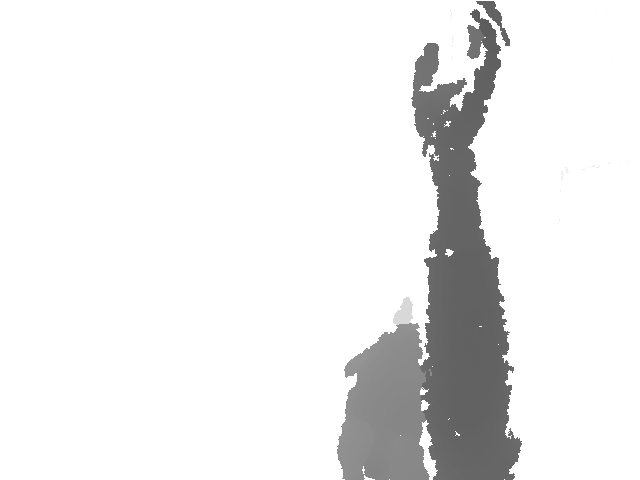hand: (410, 1, 510, 167)
person: (336, 1, 522, 480)
